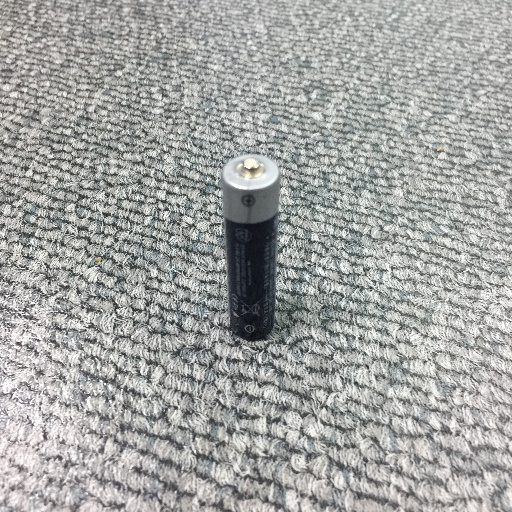Battery_0: (217, 148, 292, 351)
